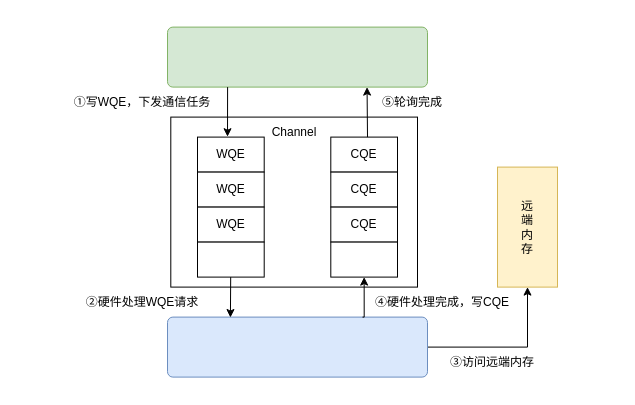
This 635x405 diagram has some shape labels left out. Here are the shapes that lost their labels. From the top down, the box of each, then its label:
(166, 26, 428, 87): 通信引擎
(166, 316, 428, 377): 硬件通路
